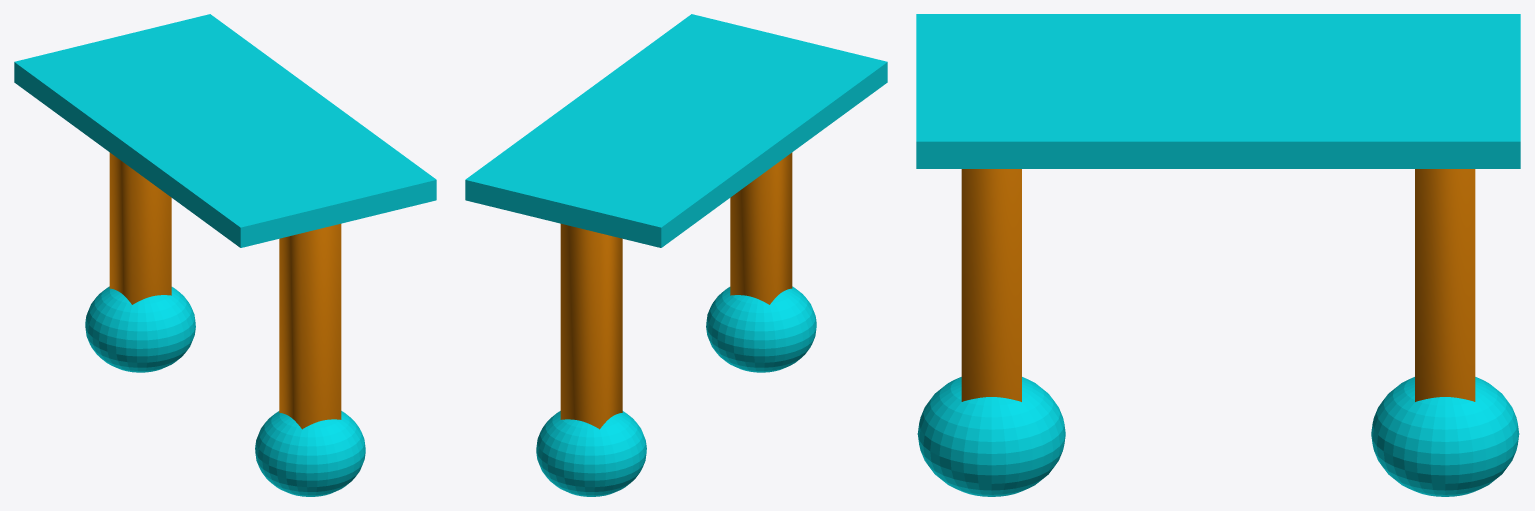
Rendered from obs-1.fbx.
3 renders of one model, left to right at view 1: azimuth 30°, elevation 25°; view 2: azimuth 150°, elevation 25°; view 3: azimuth 270°, elevation 25°, orthographic. The views are drawn at different scales.
Parts seen in each view (by area): view 1: Cube, Cube.002, Cube.001, Sphere R, Sphere l; view 2: Cube, Cube.001, Cube.002, Sphere l, Sphere R; view 3: Cube, Cube.001, Cube.002, Sphere l, Sphere R.
Boxes of the visible parts, bbox=[...] form: Cube: bbox=[14, 14, 436, 247]; Cube.002: bbox=[279, 223, 341, 429]; Cube.001: bbox=[109, 152, 171, 304]; Sphere R: bbox=[255, 411, 365, 496]; Sphere l: bbox=[85, 286, 195, 372]; Cube: bbox=[465, 14, 887, 247]; Cube.001: bbox=[560, 223, 622, 429]; Cube.002: bbox=[730, 152, 792, 304]; Sphere l: bbox=[536, 411, 646, 496]; Sphere R: bbox=[706, 286, 816, 372]; Cube: bbox=[916, 14, 1520, 168]; Cube.001: bbox=[1415, 169, 1475, 401]; Cube.002: bbox=[961, 169, 1021, 401]; Sphere l: bbox=[1371, 377, 1519, 496]; Sphere R: bbox=[917, 377, 1065, 496].
Size of what is drawn, in the model's own units: 200 by 300 by 400.
